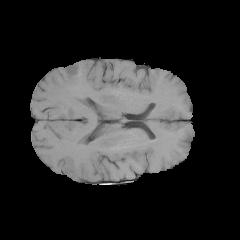glioma: (54, 62, 83, 84)
